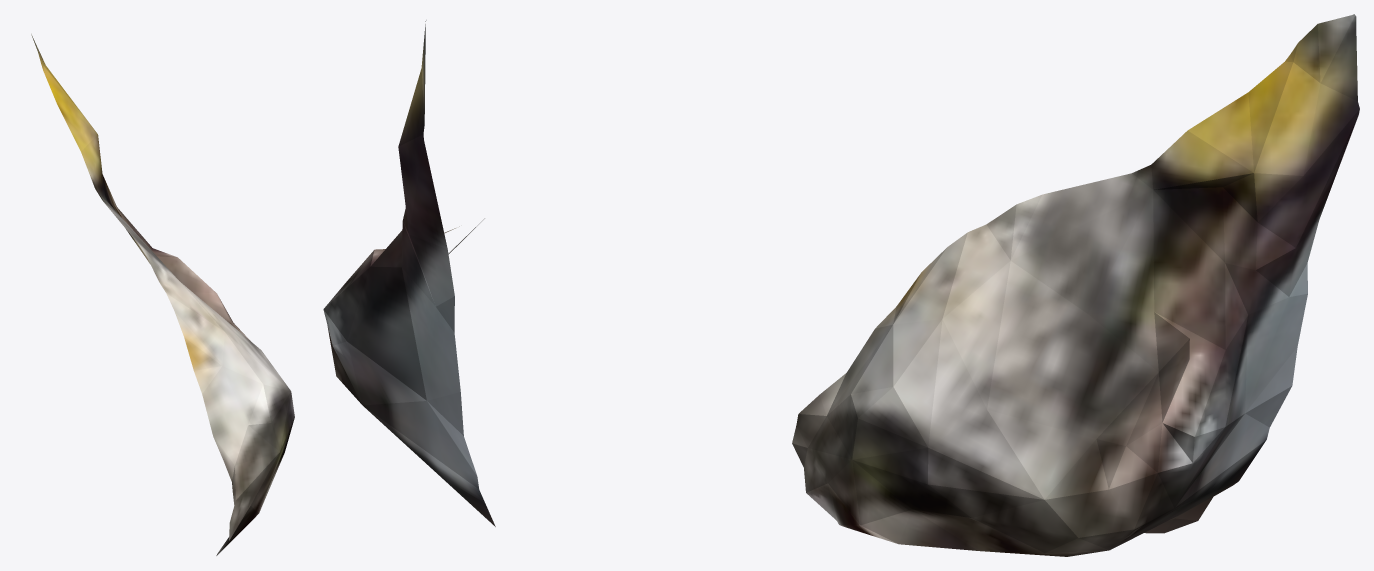
3 views of the same model, side by side, from view 1: azimuth 30°, elevation 25°; view 2: azimuth 150°, elevation 25°; view 3: azimuth 270°, elevation 25° (orthographic). The views are drawn at different scales.
Bounding box in the file's own units: 0.1447 × 0.379 × 0.3746.
Materials: 1 (1 with a texture image).
